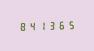eight: (17, 21, 26, 31)
five: (68, 19, 77, 29)
four: (27, 20, 36, 31)
one: (38, 20, 47, 30)
six: (58, 19, 67, 30)
three: (48, 19, 57, 30)
